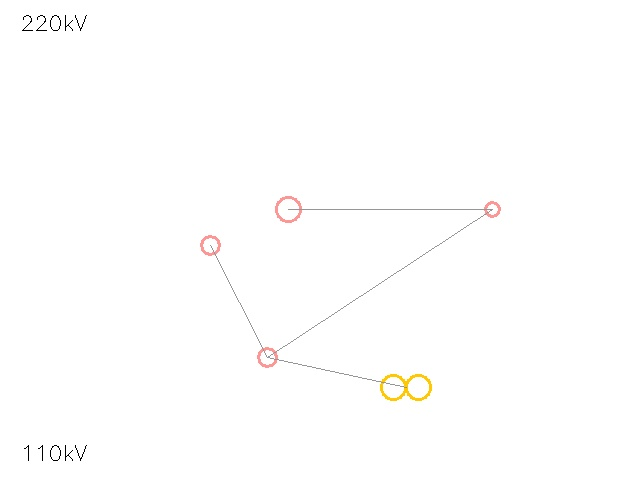current_transformer: (263, 184, 313, 234)
feeder_terminal: (477, 194, 507, 224)
fuse: (191, 226, 229, 264)
load_break_switch: (249, 339, 285, 375)
transformer_2w: (375, 356, 437, 418)
